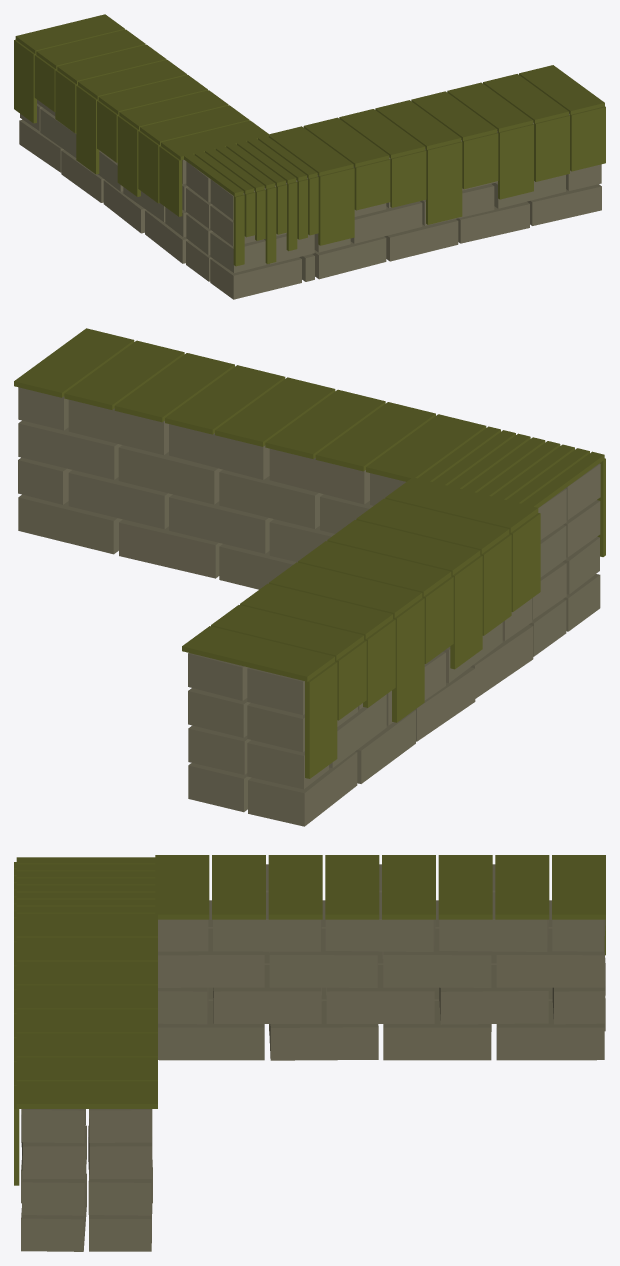
The model's file is SM_SacosEsquina_v4_Red_e0_Sano_LOD0.fbx.
The picture shows the model from 3 angles, top to bottom: view 1: azimuth 30°, elevation 25°; view 2: azimuth 150°, elevation 25°; view 3: azimuth 270°, elevation 25°; orthographic projection. The views are drawn at different scales.
Visible parts, largest first — view 1: SM_sacos_piezas_v16_LOD0; view 2: SM_sacos_piezas_v16_LOD0; view 3: SM_sacos_piezas_v16_LOD0.
Boxes of the visible parts, <box> form: SM_sacos_piezas_v16_LOD0: <box>14,14,605,299</box>; SM_sacos_piezas_v16_LOD0: <box>14,328,605,826</box>; SM_sacos_piezas_v16_LOD0: <box>14,855,605,1251</box>.
Size of the model in its own units: 4.44 by 1.23 by 4.44.
